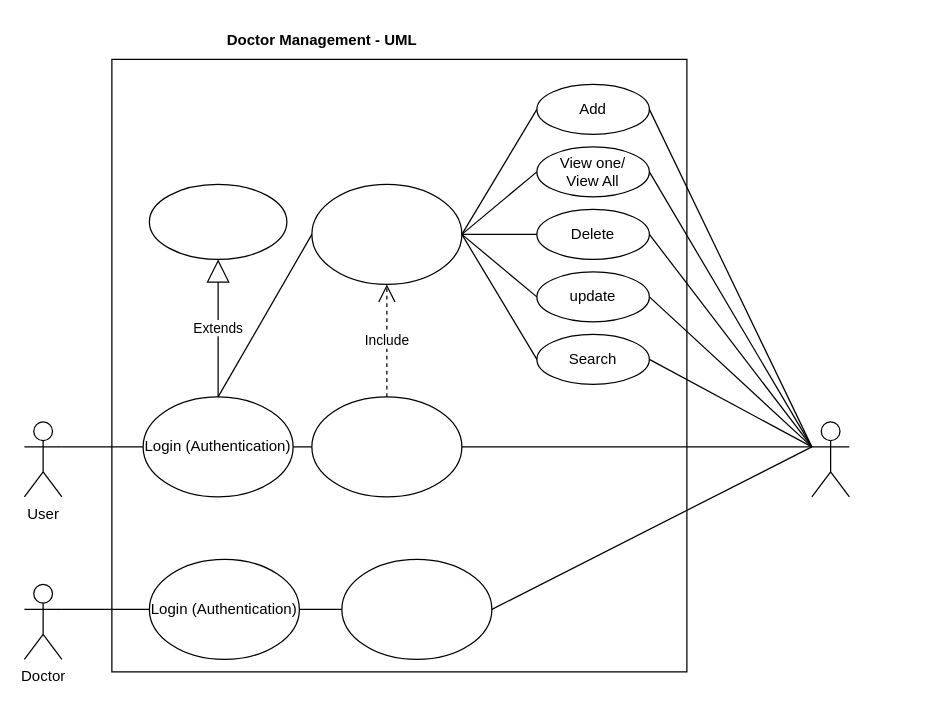
The diagram is 931 pixels wide and 706 high, and some of its shapes have lost their labels. Each missing label, with the centre of its shape:
"Handle Abort/ False Credentialing" belongs at (x=217, y=221).
"Manage Doctors" belongs at (x=386, y=233).
"MediTech System & DB" belongs at (x=830, y=459).
"Schedule Appointment" belongs at (x=386, y=446).
"View Medical Record" belongs at (x=416, y=608).
